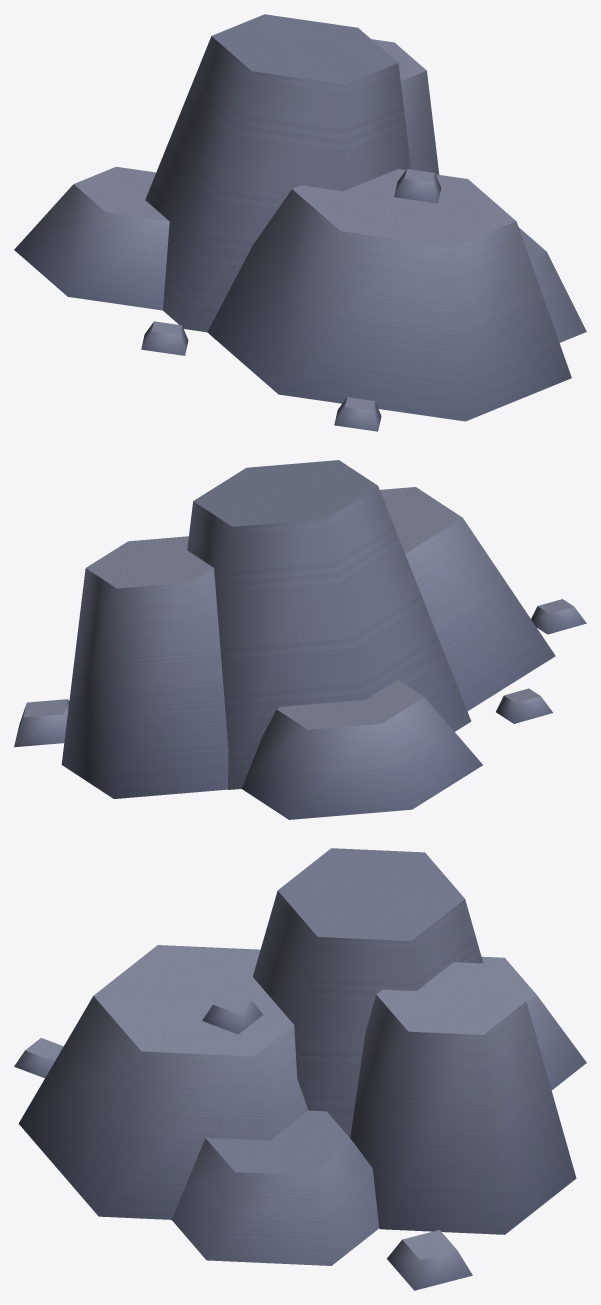
The model's file is rocks-small.glb.
The picture shows the model from 3 angles, top to bottom: view 1: azimuth 30°, elevation 25°; view 2: azimuth 150°, elevation 25°; view 3: azimuth 270°, elevation 25°; orthographic projection.
Visible parts, largest first — view 1: rocks-small; view 2: rocks-small; view 3: rocks-small.
Part boxes in pixels (bbox=[...]): rocks-small: bbox=[14, 14, 586, 431]; rocks-small: bbox=[14, 460, 586, 819]; rocks-small: bbox=[14, 848, 586, 1290].
Size of the model in its own units: 1.02 by 0.6057 by 1.1.
1 material, 1 textured.
